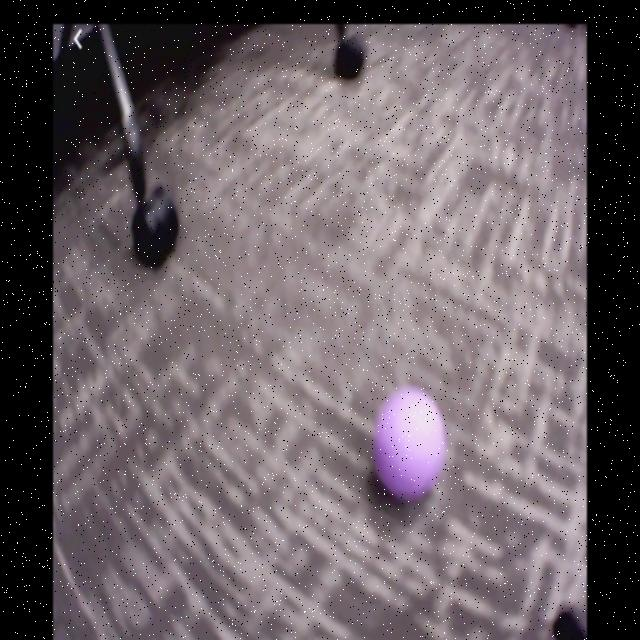ball: (375, 390, 445, 498)
